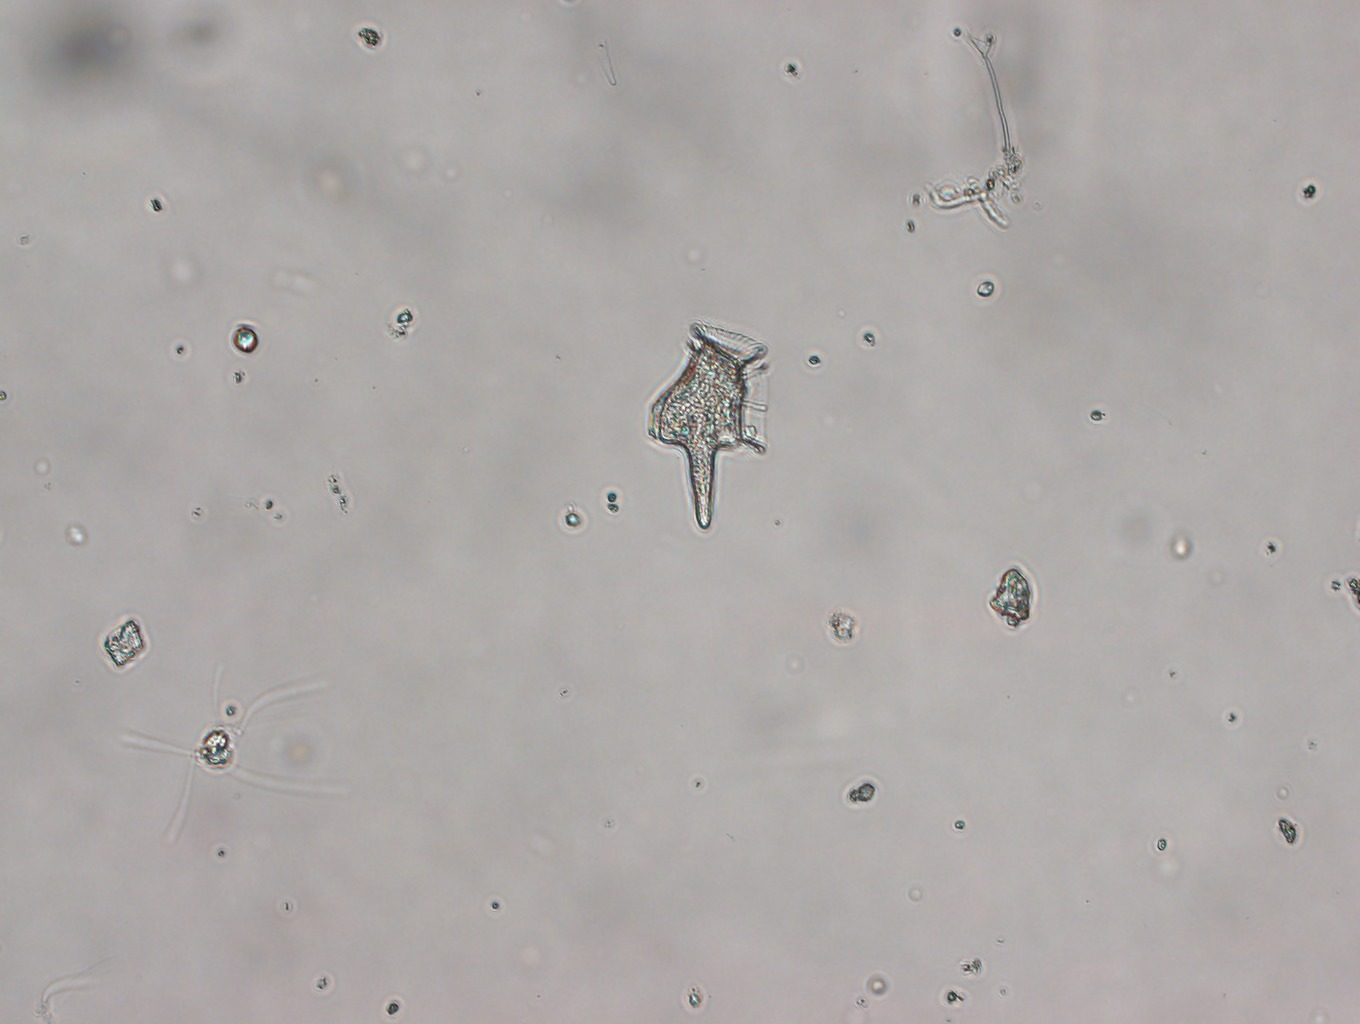dinophysis caudata: (636, 310, 776, 534)
